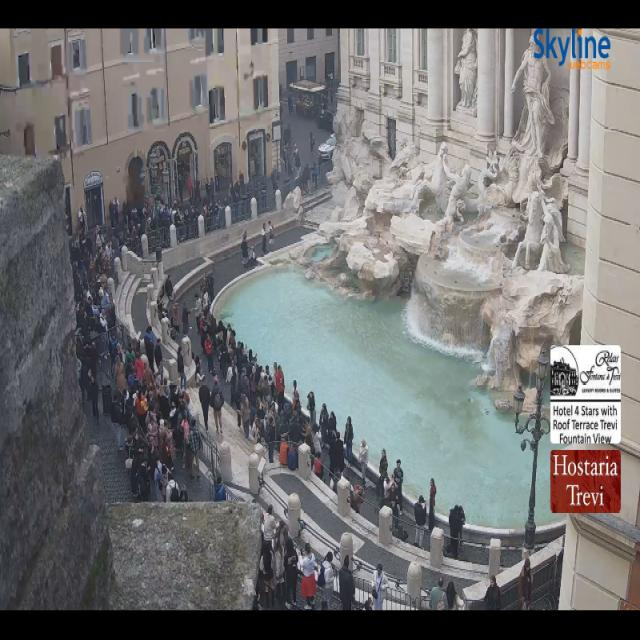person: (202, 303, 233, 381), (162, 378, 200, 440), (75, 235, 99, 330), (111, 339, 152, 391), (229, 333, 256, 407), (232, 343, 261, 408), (215, 322, 237, 405), (226, 329, 250, 405), (220, 343, 247, 407), (208, 303, 231, 377), (237, 343, 261, 408), (229, 331, 253, 395), (87, 228, 107, 301), (196, 278, 214, 354), (80, 227, 110, 272), (248, 350, 270, 411), (87, 275, 109, 333), (90, 228, 107, 302), (128, 344, 153, 394), (229, 337, 250, 396), (200, 277, 217, 347), (152, 373, 177, 420), (68, 219, 82, 302), (175, 403, 192, 470), (200, 277, 216, 345), (77, 228, 97, 280), (300, 544, 316, 608), (147, 374, 168, 422), (284, 538, 298, 608), (260, 542, 275, 607), (216, 321, 235, 372), (124, 202, 146, 246), (187, 421, 202, 485), (106, 300, 119, 368), (128, 333, 154, 367), (255, 363, 271, 418), (339, 556, 355, 610), (84, 288, 103, 333), (216, 321, 230, 380), (230, 331, 249, 374), (141, 202, 168, 232), (228, 364, 246, 409), (167, 383, 181, 440), (96, 229, 115, 271), (145, 394, 158, 452), (130, 443, 143, 501), (372, 563, 388, 610), (160, 463, 179, 501), (272, 538, 284, 598), (276, 414, 290, 465), (184, 174, 200, 218), (518, 558, 531, 610), (108, 333, 123, 378), (211, 377, 223, 433), (329, 438, 343, 486), (151, 202, 176, 228), (156, 202, 181, 228), (321, 551, 333, 603), (449, 506, 460, 559), (484, 576, 501, 610), (277, 417, 289, 465), (415, 496, 426, 548), (393, 459, 403, 515), (380, 471, 395, 508), (88, 372, 99, 422), (379, 472, 394, 508), (238, 394, 250, 439), (199, 385, 211, 430), (358, 438, 369, 486), (264, 505, 277, 545), (224, 339, 236, 382), (380, 472, 395, 506), (137, 462, 150, 501), (144, 326, 155, 371), (446, 581, 463, 610), (135, 390, 147, 431), (124, 369, 138, 404), (222, 182, 240, 209), (227, 363, 238, 407), (196, 316, 208, 356), (377, 449, 387, 497), (344, 417, 354, 464), (265, 416, 275, 463), (259, 368, 271, 407), (183, 391, 199, 420), (430, 577, 444, 610), (159, 378, 170, 420), (77, 303, 90, 338), (115, 356, 127, 393), (428, 479, 436, 533), (98, 311, 107, 359), (334, 432, 344, 475), (206, 171, 219, 204), (286, 124, 298, 159), (154, 459, 164, 501), (152, 202, 168, 228), (314, 434, 323, 480), (147, 412, 157, 453), (76, 229, 88, 263), (448, 506, 460, 540), (289, 412, 302, 443), (205, 335, 215, 374), (177, 347, 186, 389), (275, 520, 288, 549), (276, 365, 284, 411), (351, 485, 364, 513), (81, 229, 94, 257), (124, 344, 135, 377), (224, 182, 239, 206), (280, 125, 291, 157), (320, 404, 329, 443), (284, 154, 293, 193), (161, 203, 175, 228), (236, 171, 248, 200), (391, 493, 399, 536), (192, 293, 202, 327), (254, 176, 266, 204), (458, 506, 465, 553), (328, 412, 337, 448), (144, 364, 154, 396), (304, 425, 314, 456), (154, 342, 163, 376), (89, 342, 98, 376), (245, 348, 257, 373), (269, 363, 277, 400), (240, 369, 250, 398), (139, 207, 149, 236), (195, 356, 204, 386), (122, 200, 131, 230), (110, 197, 119, 227), (312, 427, 321, 457), (295, 162, 304, 192), (281, 145, 288, 183), (157, 295, 167, 321), (100, 290, 110, 314), (195, 356, 203, 386), (308, 392, 315, 426), (171, 303, 179, 332), (436, 591, 448, 610), (135, 353, 143, 381), (229, 182, 239, 204), (207, 272, 214, 303), (131, 203, 139, 230), (202, 179, 210, 206), (183, 300, 189, 336), (202, 285, 209, 315), (292, 381, 299, 411), (165, 275, 173, 301), (78, 206, 86, 232), (196, 356, 203, 385), (246, 246, 256, 266), (268, 220, 274, 252), (241, 231, 247, 263), (187, 174, 194, 201), (104, 240, 113, 261), (303, 165, 310, 192), (200, 285, 207, 311), (178, 172, 184, 201), (312, 162, 318, 188), (262, 223, 267, 254), (327, 73, 332, 102), (294, 145, 300, 169), (205, 179, 213, 197), (271, 167, 277, 191), (212, 172, 219, 192), (364, 597, 374, 610), (329, 74, 333, 104), (310, 132, 315, 155), (196, 179, 200, 202), (320, 100, 326, 115), (288, 95, 292, 115), (321, 600, 328, 610), (279, 85, 282, 102), (238, 414, 241, 427), (309, 171, 310, 177)
